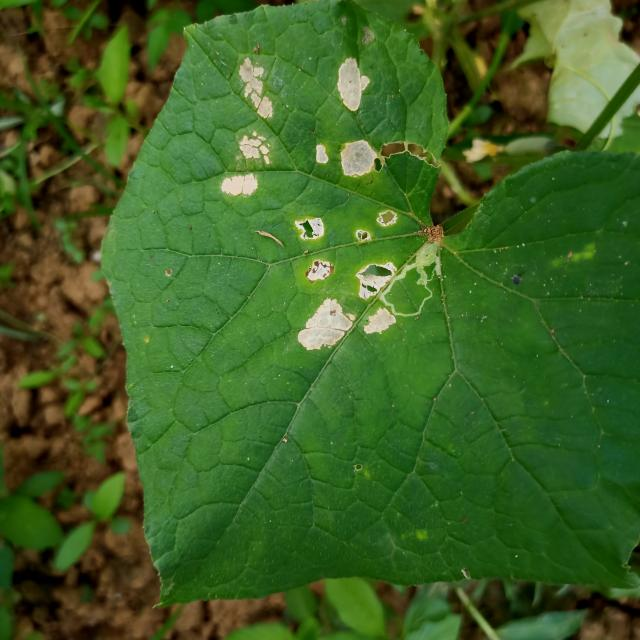disease_cucumber: (296, 59, 398, 350), (220, 56, 274, 197)
